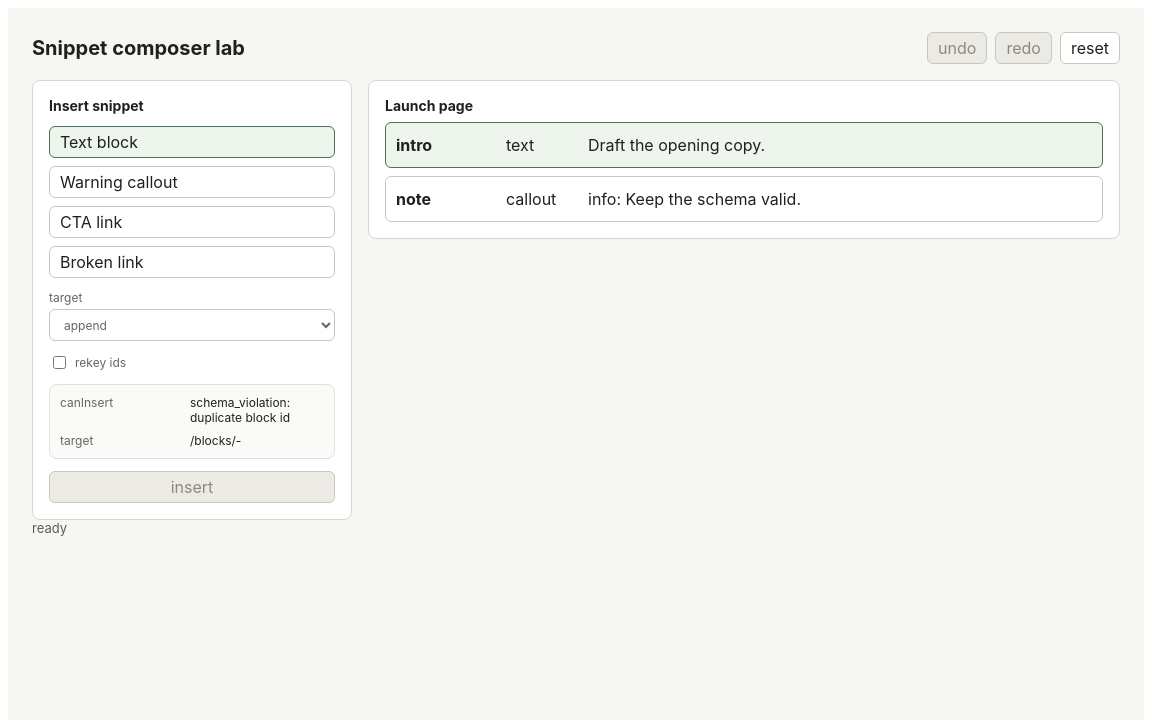
Test: snippet composer lab dogfood › uses the target argument to insert after the selected block
Click the button with aria-label "select block 1" at [744, 199], box [385,176,1103,222]
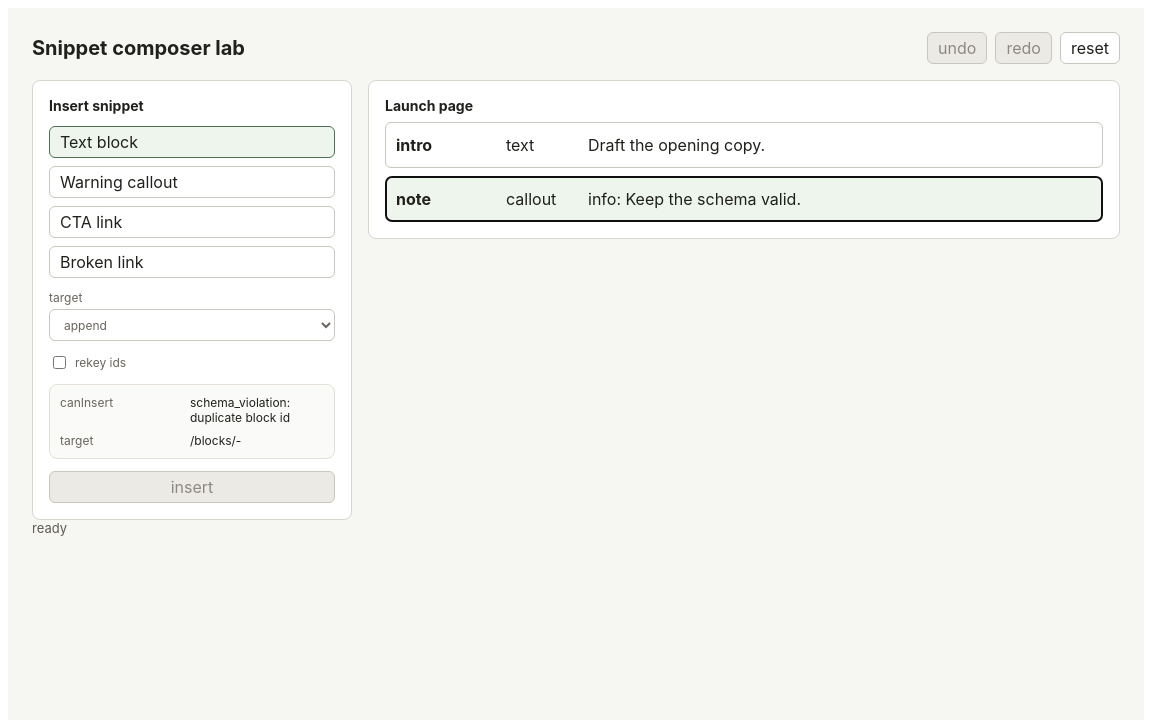
Select "after selected" in the dropdown named "target mode" at [192, 325], box [49,309,335,341]
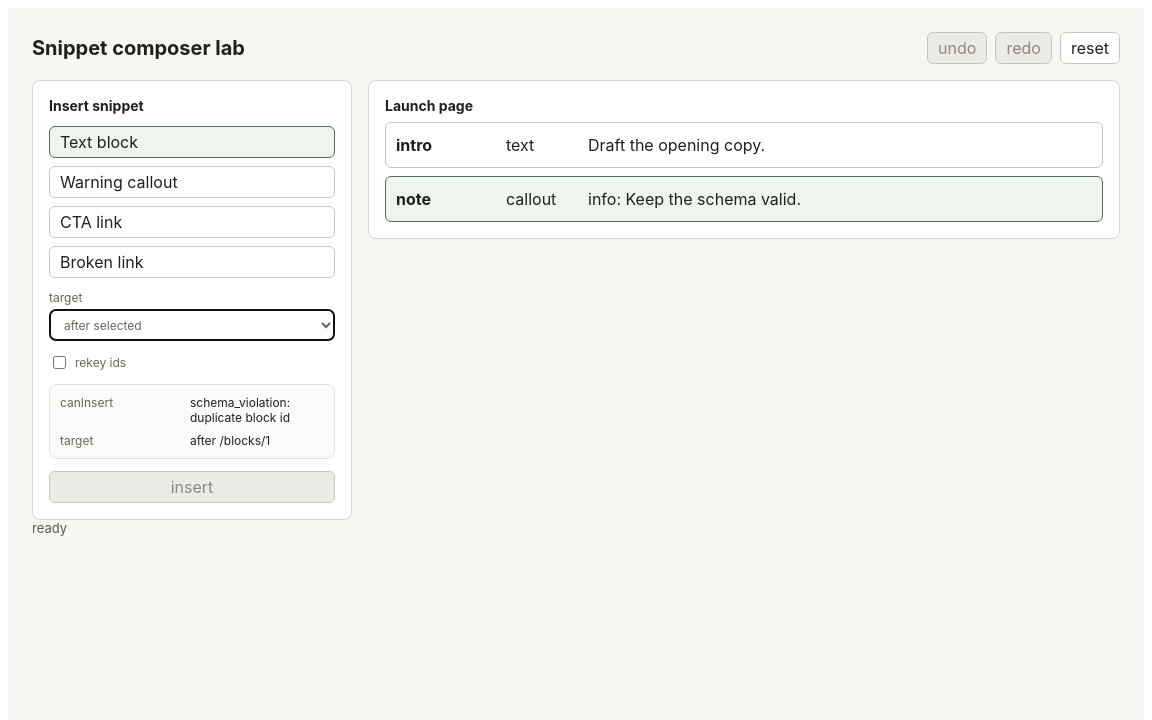
Click the button with aria-label "select cta-link" at [91, 222], box [49,206,335,238]
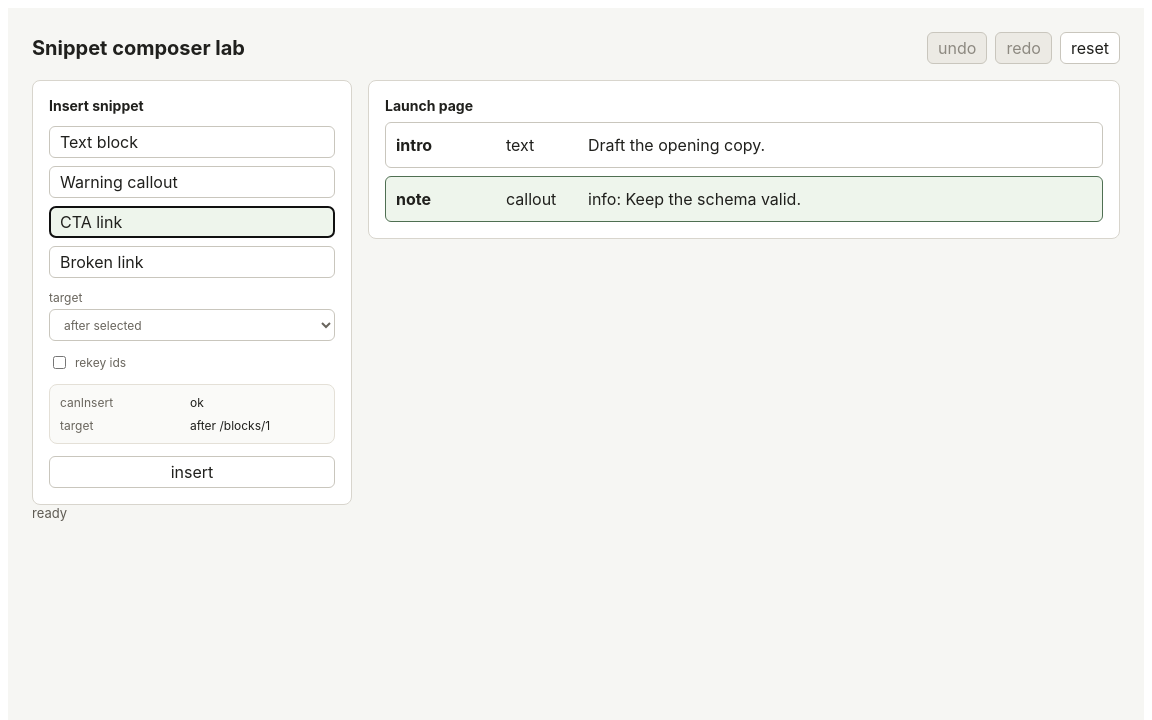
Click the button "insert" at [192, 472], box [49,456,335,488]
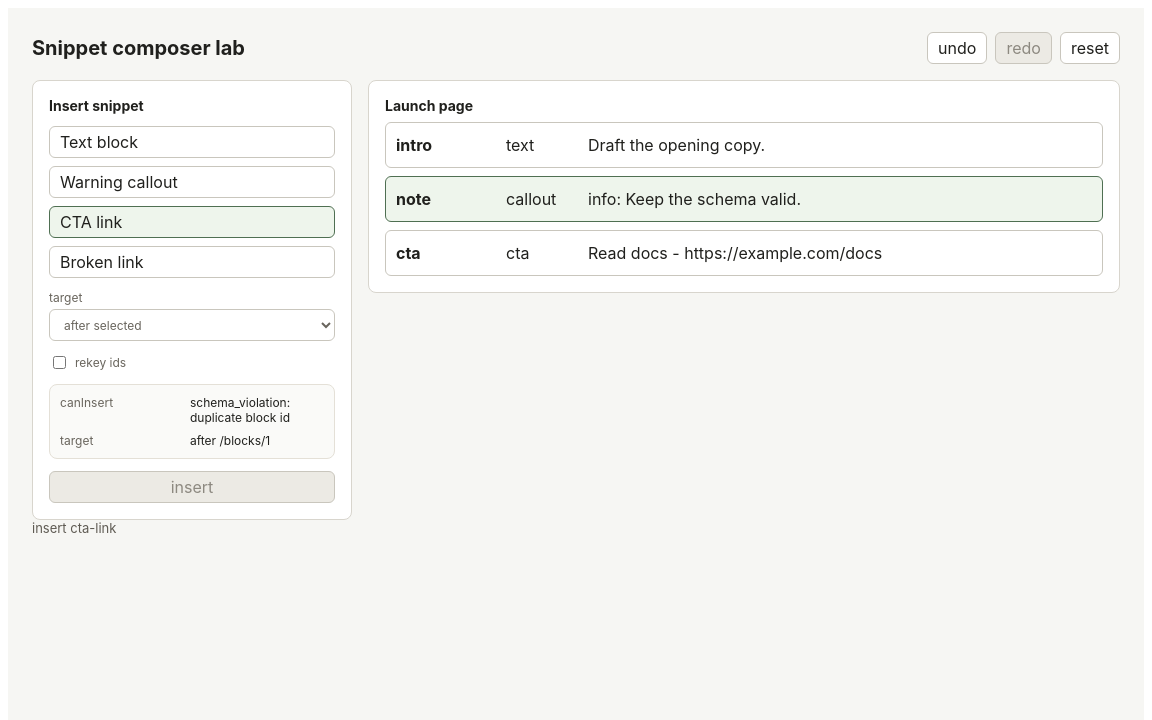
Check: the text named "target value" reads "after /blocks/1", box [190,433,270,448]
Check: the buttons read "introtextDraft the opening copy.", "notecalloutinfo: Keep the schema valid.", "ctactaRead docs - https://example.com/docs", in this order, box [385,122,1103,168]; [385,176,1103,222]; [385,230,1103,276]
